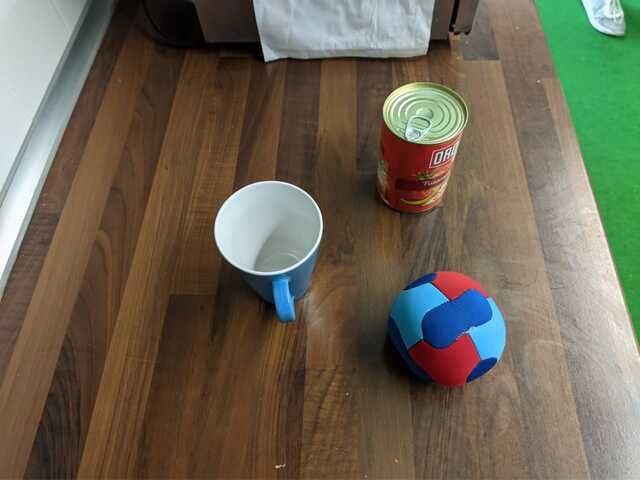005_tomato_soup_can: (376, 78, 470, 218)
025_mug: (208, 176, 329, 329)
057_racquetball: (385, 266, 510, 391)
